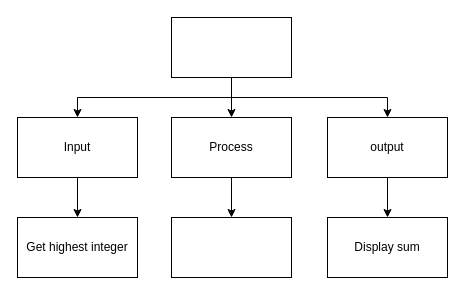
Some shapes in this 465 by 295 pixel diagram are drawn without their labels. Here are the shapes that lost their labels. From the top down, the centre of each, then its label:
(x=231, y=47): While Loop
(x=231, y=247): Calculate sum of positive integers
